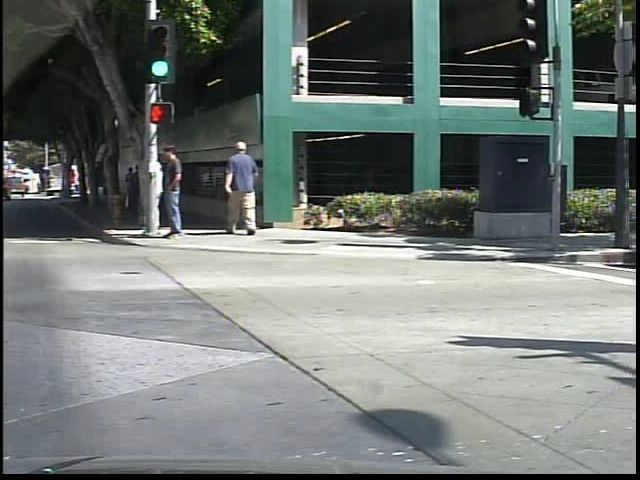person: (223, 137, 277, 236), (158, 140, 197, 246), (149, 146, 175, 231)
